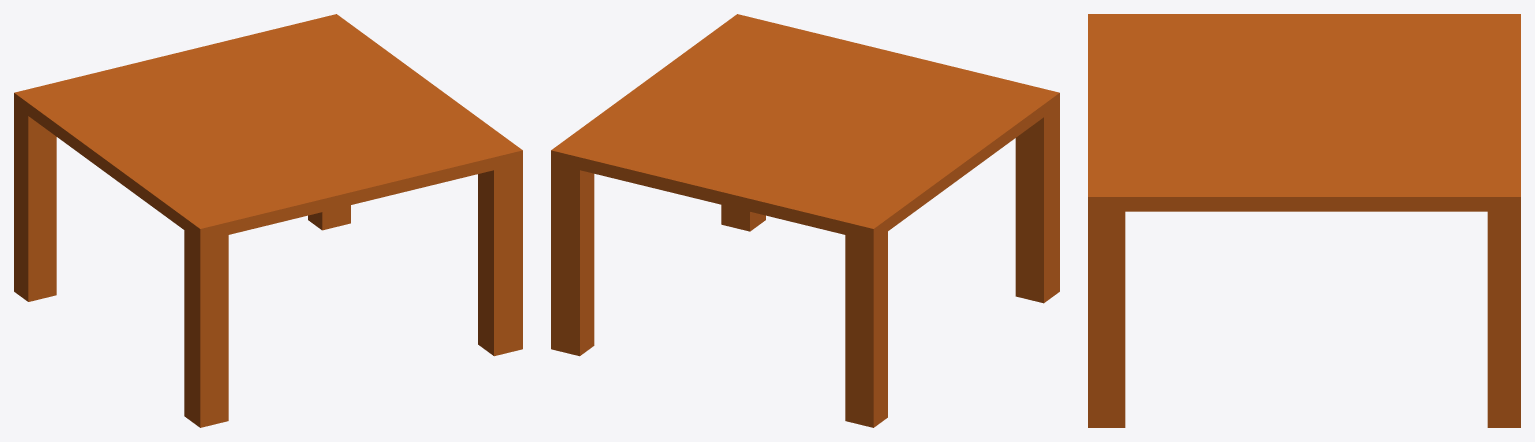
File: masa.fbx
3 renders of one model, left to right at view 1: azimuth 30°, elevation 25°; view 2: azimuth 150°, elevation 25°; view 3: azimuth 270°, elevation 25°, orthographic. The views are drawn at different scales.
Visible parts, largest first — view 1: Plane; view 2: Plane; view 3: Plane.
Boxes of the visible parts, bbox=[...] form: Plane: bbox=[14, 14, 522, 427]; Plane: bbox=[551, 14, 1059, 427]; Plane: bbox=[1088, 14, 1520, 427].
Bounding box in the file's own units: 636 × 375 × 636.
